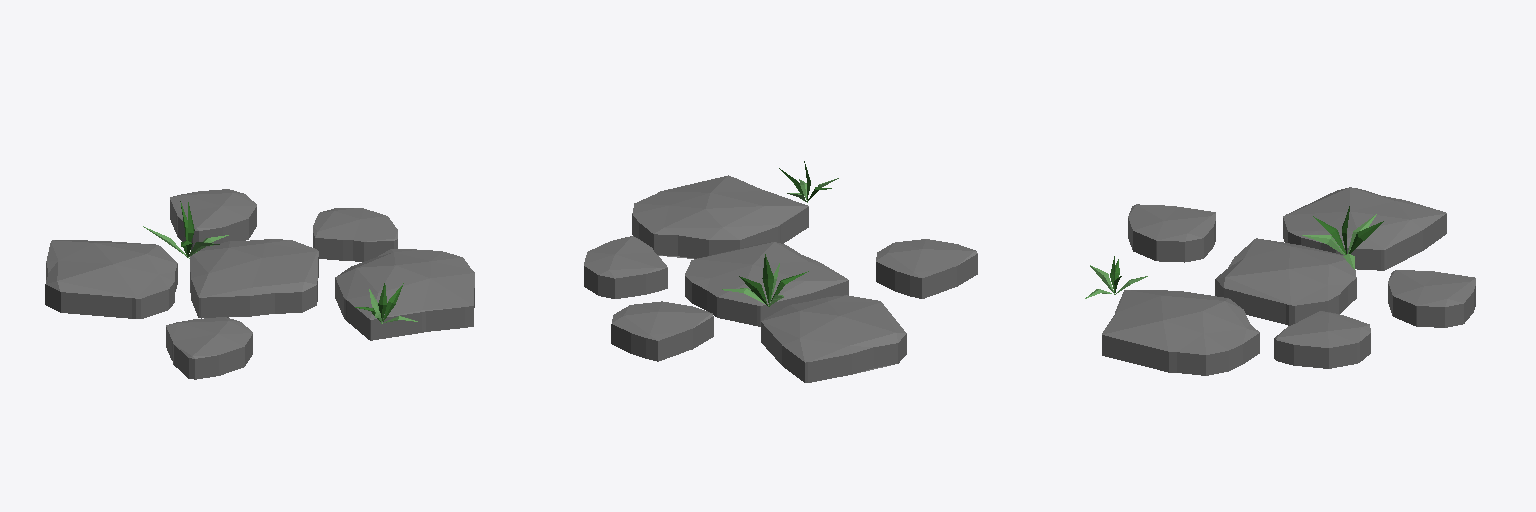
The picture shows the model from 3 angles: view 1: azimuth 30°, elevation 25°; view 2: azimuth 150°, elevation 25°; view 3: azimuth 270°, elevation 25°; orthographic projection.
Visible parts, largest first — view 1: Icosphere.005; view 2: Icosphere.005; view 3: Icosphere.005.
Part boxes in pixels (bbox=[...]): Icosphere.005: bbox=[45, 189, 474, 379]; Icosphere.005: bbox=[584, 161, 977, 382]; Icosphere.005: bbox=[1085, 187, 1475, 375].
Size of the model in its own units: 1.72 by 0.3541 by 1.71.
2 materials, 1 textured.